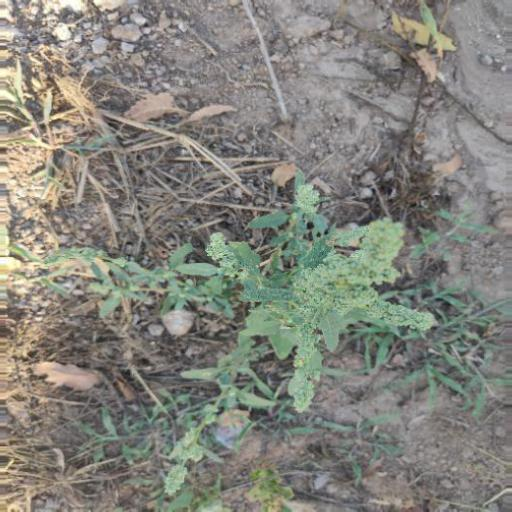weed: (146, 213, 431, 414)
